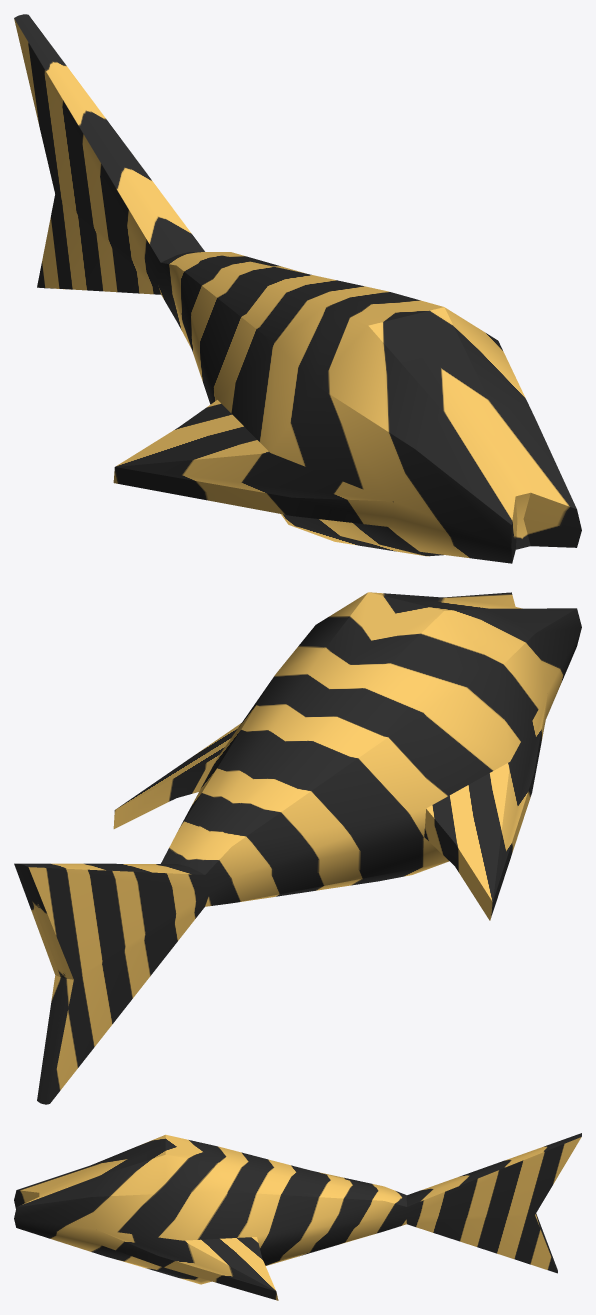
File: standardenemy.fbx
3 renders of one model, top to bottom at view 1: azimuth 30°, elevation 25°; view 2: azimuth 150°, elevation 25°; view 3: azimuth 270°, elevation 25°, orthographic. The views are drawn at different scales.
Parts seen in each view (by area): view 1: Cube; view 2: Cube; view 3: Cube.
Part boxes in pixels (left/top/right/bottom): Cube: left=14, top=14, right=581, bottom=563; Cube: left=14, top=592, right=581, bottom=1104; Cube: left=14, top=1133, right=581, bottom=1300.
Bounding box in the file's own units: 320 × 210 × 770.
